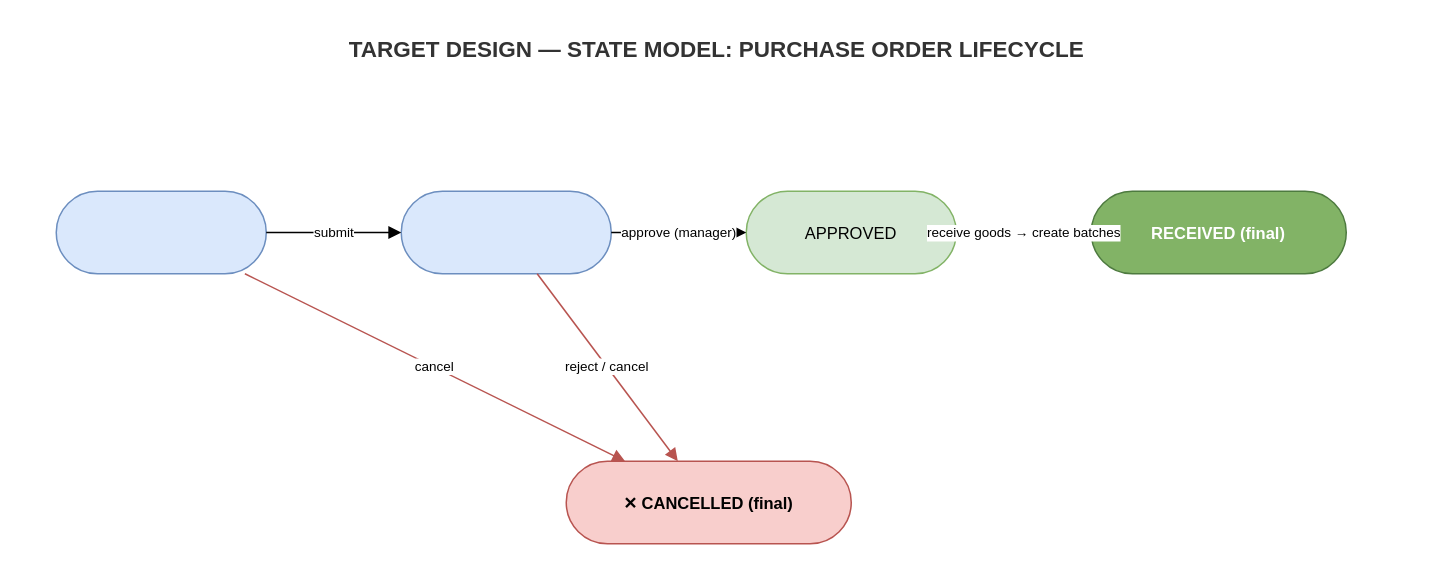
The diagram is 1431 pixels wide and 570 high, and some of its shapes have lost their labels. Here are the shapes that lost their labels. From the top down, the centre of each, then its label:
(160,232): ● DRAFT
(505,232): SUBMITTED
